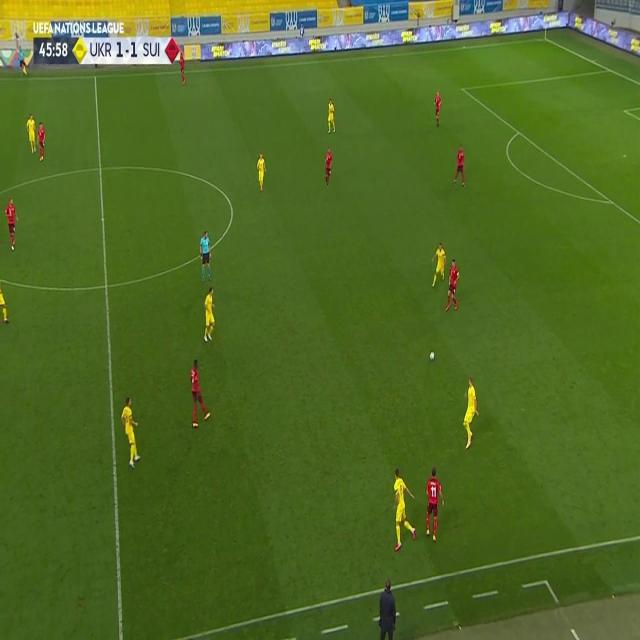ball: (429, 350, 435, 361)
player: (390, 468, 416, 550), (372, 578, 400, 640), (424, 467, 446, 541), (188, 357, 210, 427), (120, 396, 140, 466), (462, 375, 479, 450), (444, 258, 461, 313), (429, 242, 447, 287), (202, 287, 216, 343), (4, 197, 18, 250), (199, 229, 213, 281), (453, 145, 467, 187), (26, 113, 36, 155), (256, 151, 266, 193), (324, 146, 334, 186), (17, 44, 29, 76), (0, 280, 9, 322), (326, 98, 336, 134), (37, 121, 46, 161), (434, 90, 442, 127), (178, 51, 186, 86)
